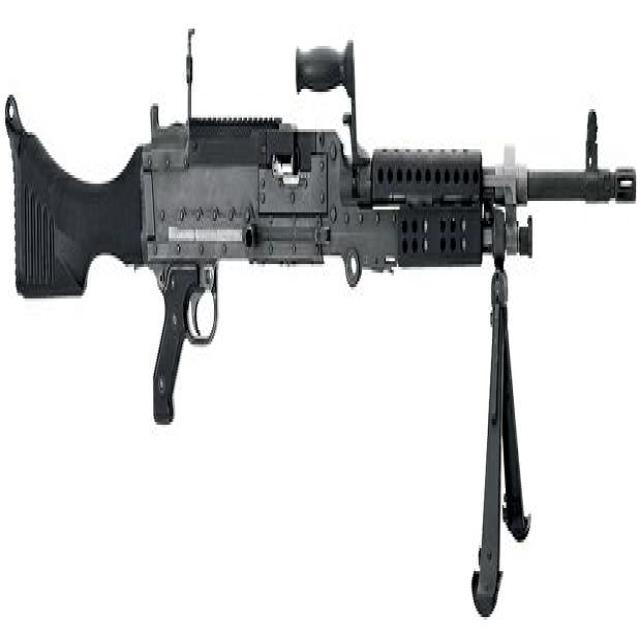Gun: (9, 17, 640, 611)
